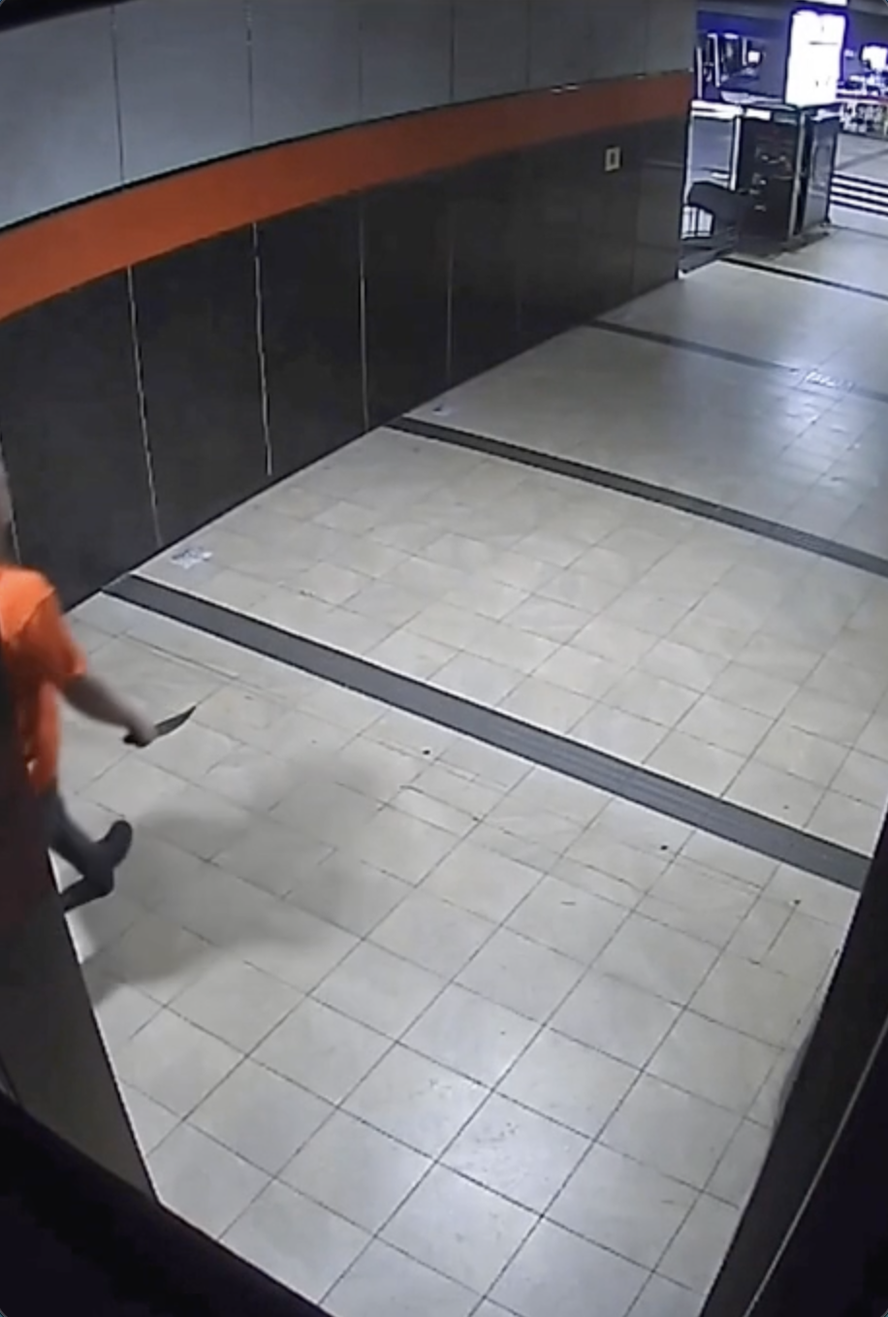Heavy Gun: (0, 462, 153, 908)
Knife: (115, 700, 201, 752)
